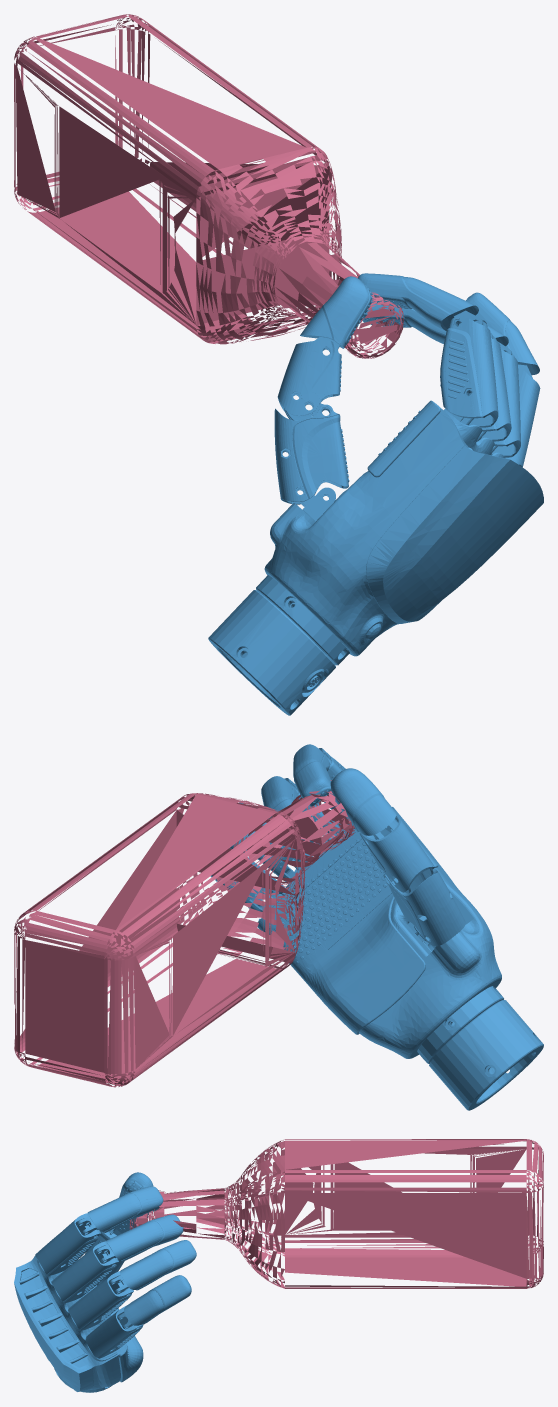
3 views of the same model, one above another, from view 1: azimuth 30°, elevation 25°; view 2: azimuth 150°, elevation 25°; view 3: azimuth 270°, elevation 25° (orthographic). The views are drawn at different scales.
Visible parts, largest first — view 1: 7; view 2: 7; view 3: 7.
Boxes of the visible parts, bbox=[...] form: 7: bbox=[14, 14, 543, 715]; 7: bbox=[14, 744, 543, 1110]; 7: bbox=[14, 1139, 543, 1392].
Size of the model in its own units: 0.1791 by 0.2013 by 0.3464.
